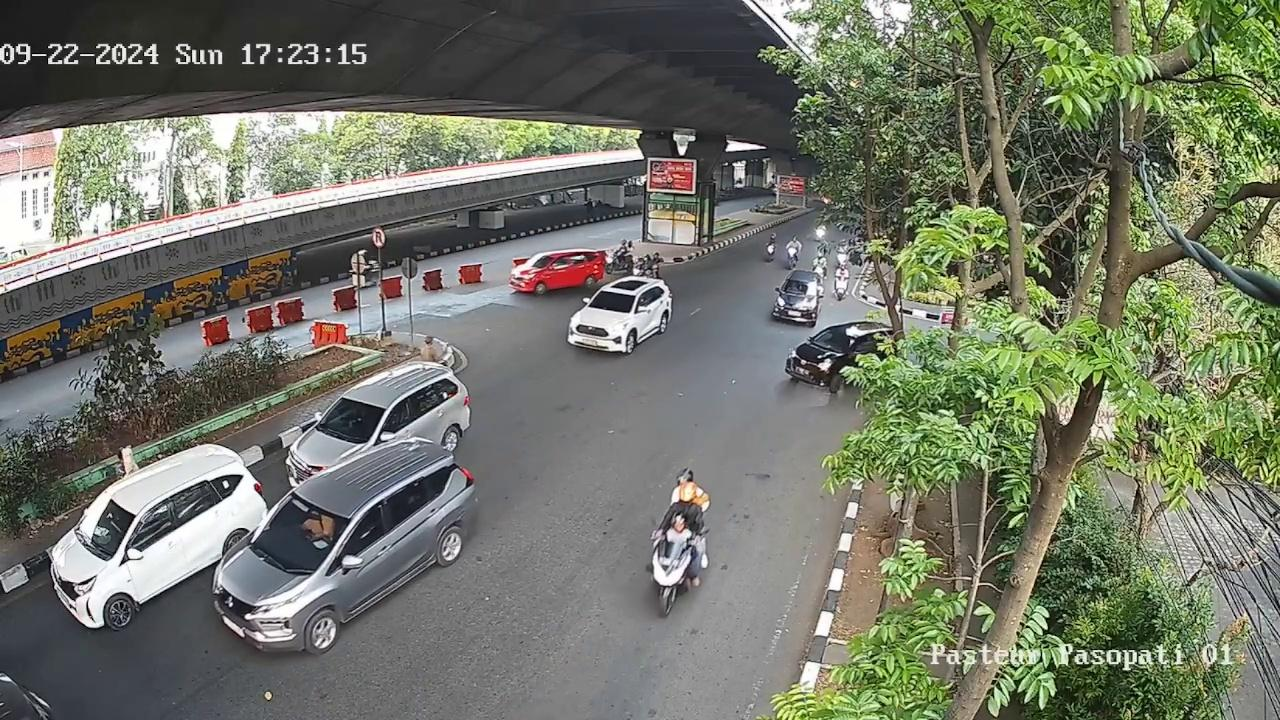pakai: (296, 508, 336, 544)
windshield: (260, 495, 351, 579), (76, 495, 136, 563), (314, 396, 385, 441), (589, 289, 636, 310)
